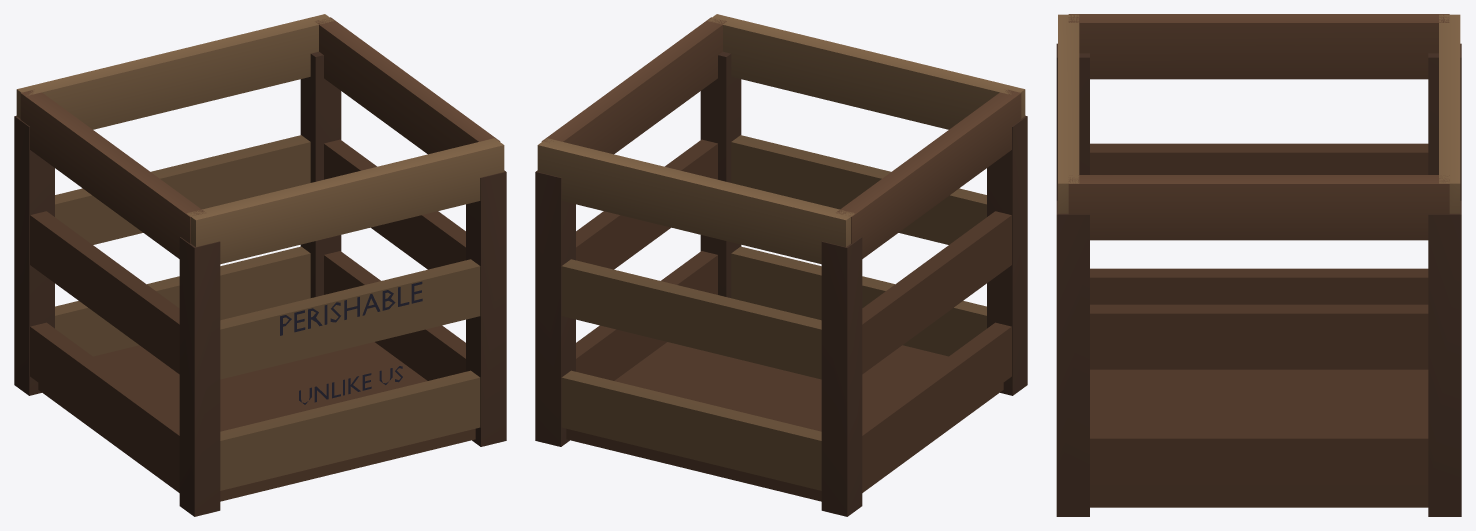
File: crate_supplies.glb
The picture shows the model from 3 angles, left to right: view 1: azimuth 30°, elevation 25°; view 2: azimuth 150°, elevation 25°; view 3: azimuth 270°, elevation 25°; orthographic projection. The views are drawn at different scales.
Visible parts, largest first — view 1: crate_supplies; view 2: crate_supplies; view 3: crate_supplies.
Boxes of the visible parts, x1,y1,x2,y2 form: crate_supplies: [14, 14, 506, 516]; crate_supplies: [535, 14, 1027, 516]; crate_supplies: [1056, 14, 1461, 516].
Bounding box in the file's own units: 0.85 × 0.77 × 0.851.
